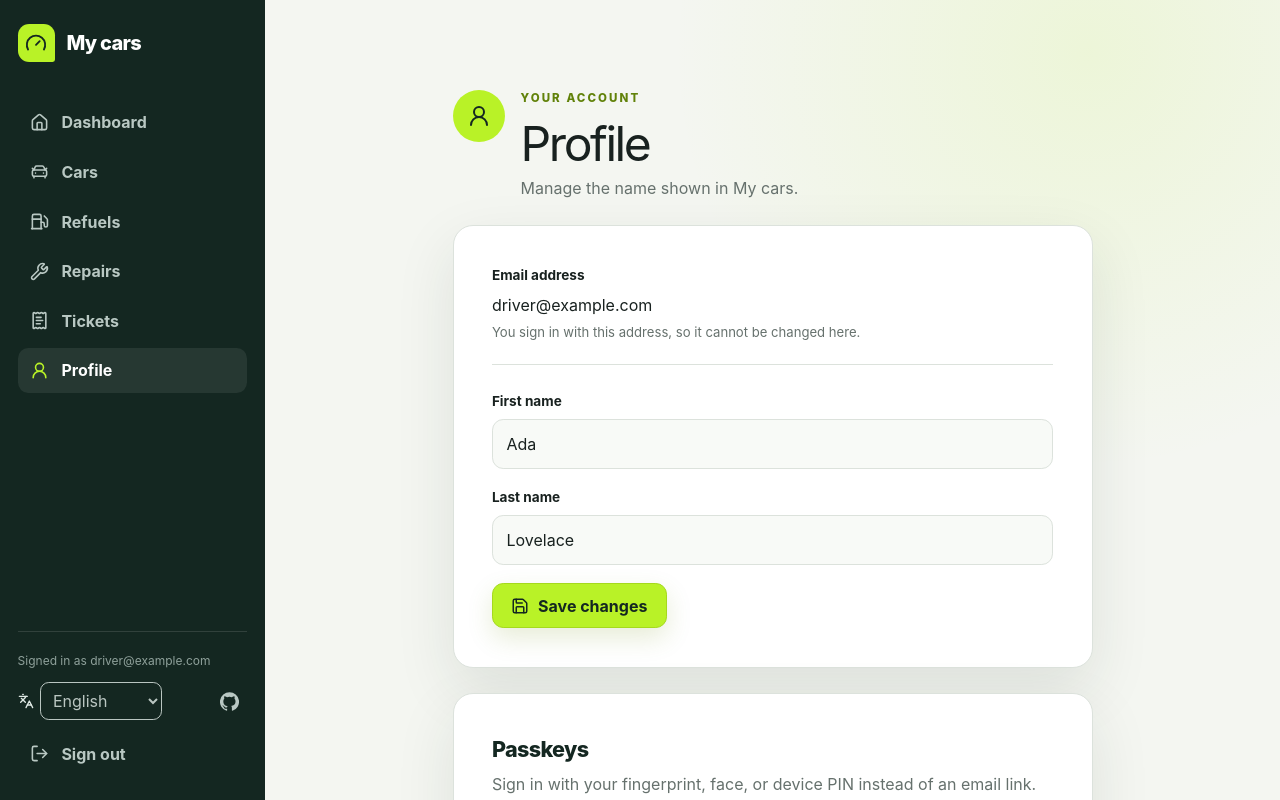
profile screen › keeps unsaved input when saving fails unexpectedly
Replace the text in the field labelled "Last name" with "Hopper" at (772, 540), box [506, 516, 1038, 564]
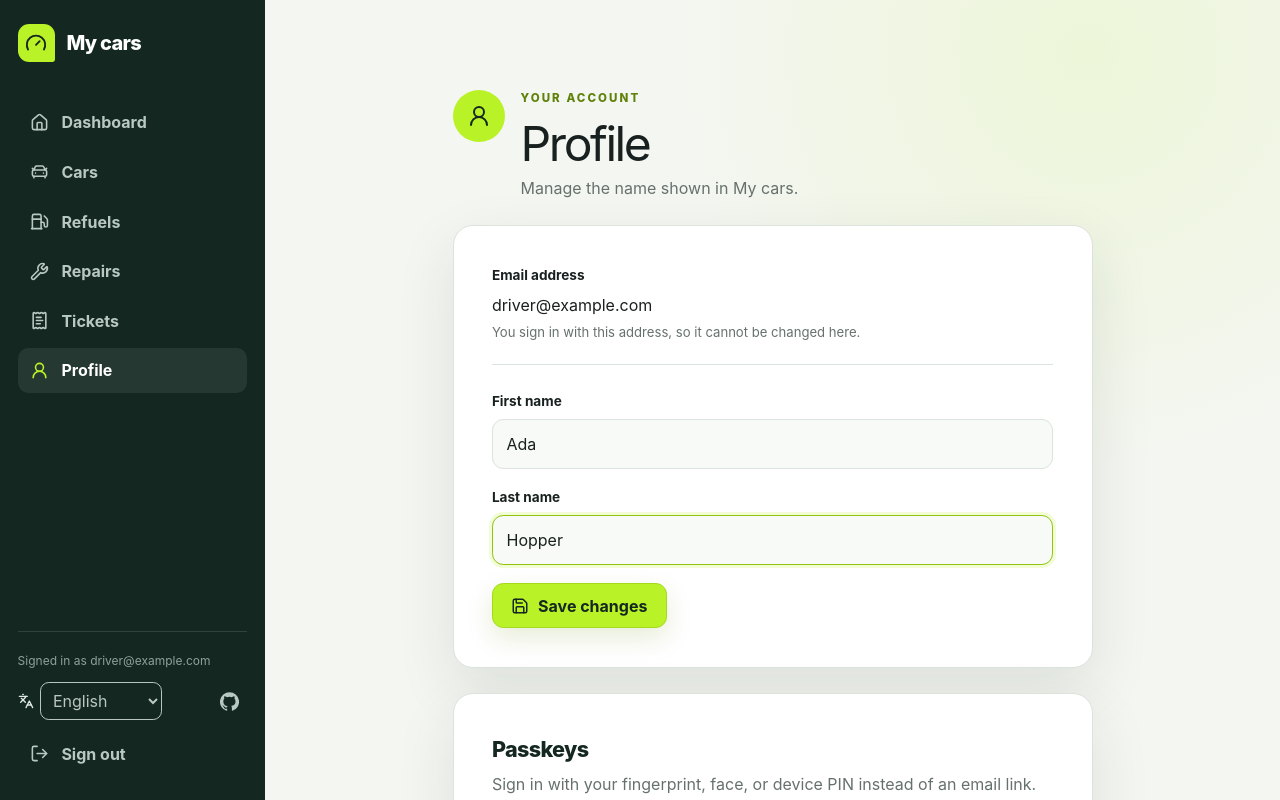
Click the button "Save changes".
click(579, 606)  # box [492, 583, 667, 628]
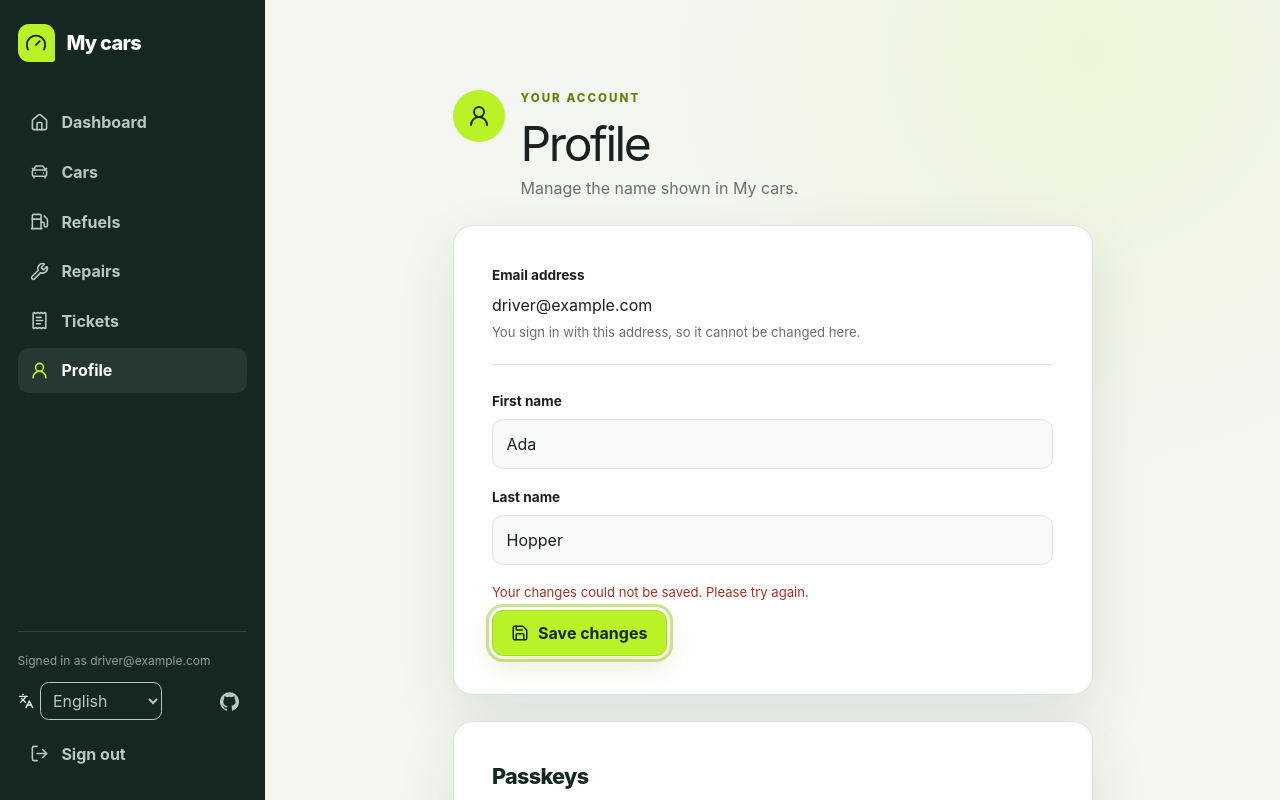
expect the message shows "Your changes could not be saved.": met, box [492, 584, 809, 600]
